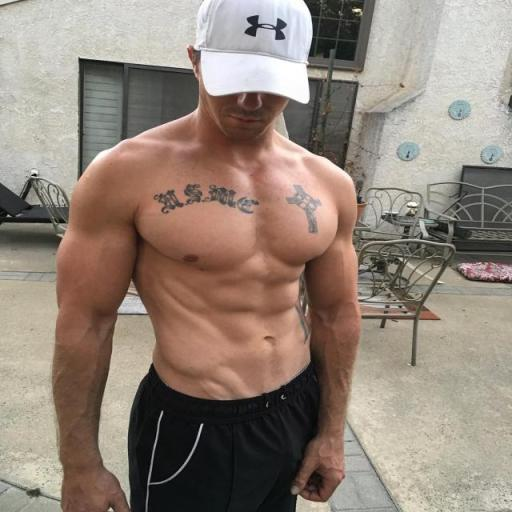Under Armour: (242, 12, 288, 44)
